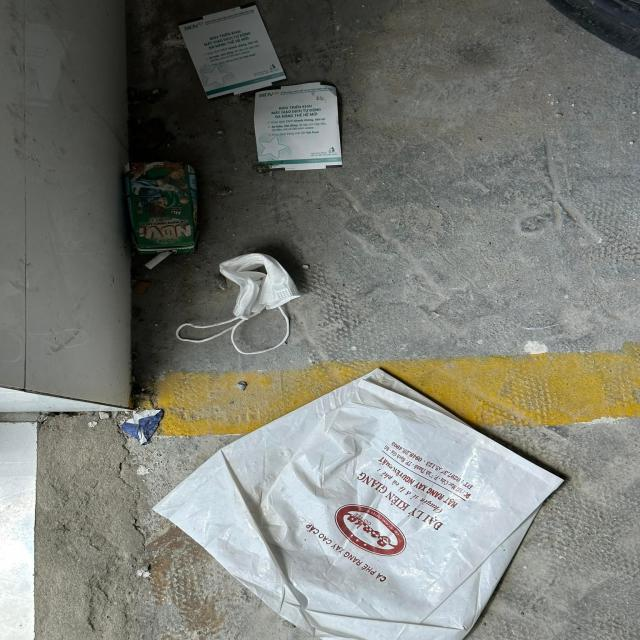bag: (149, 366, 569, 640)
mask: (174, 252, 306, 356)
milk box: (125, 160, 200, 268)
paper: (179, 0, 288, 100), (254, 81, 343, 172)
